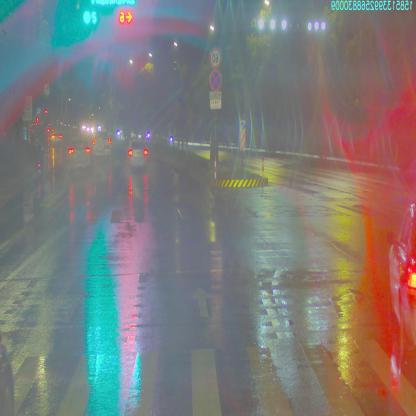traffic-light: (82, 8, 100, 30), (120, 10, 134, 24)
